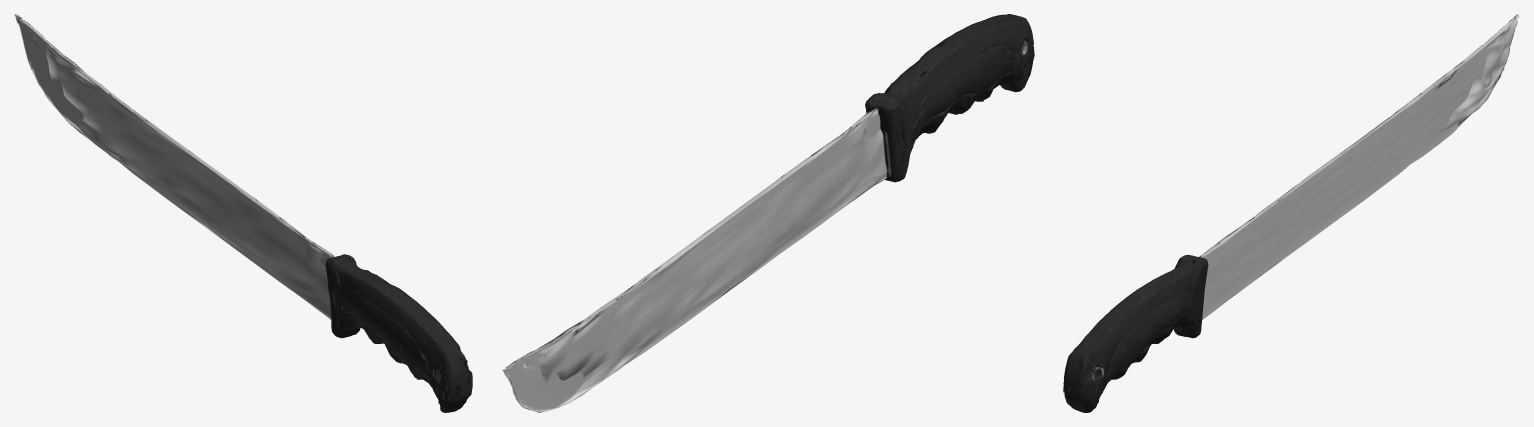
The model's file is weapon-machete.glb.
3 views of the same model, side by side, from view 1: azimuth 30°, elevation 25°; view 2: azimuth 150°, elevation 25°; view 3: azimuth 330°, elevation 25° (orthographic). The views are drawn at different scales.
Visible parts, largest first — view 1: machete; view 2: machete; view 3: machete.
Part boxes in pixels (x1,y1,x2,y2): machete: (14, 14, 472, 412); machete: (502, 14, 1034, 412); machete: (1063, 14, 1519, 412).
Bounding box in the file's own units: 0.0296 × 0.0609 × 0.62.
Materials: 1 (1 with a texture image).
